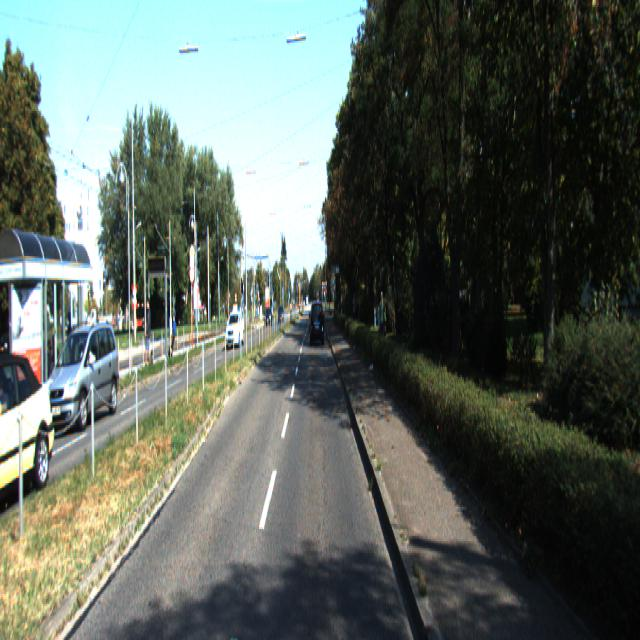Car: (0, 353, 62, 521), (50, 320, 122, 434), (310, 302, 325, 348), (226, 313, 244, 351)
